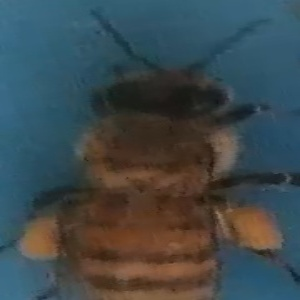bee: (13, 45, 293, 298)
